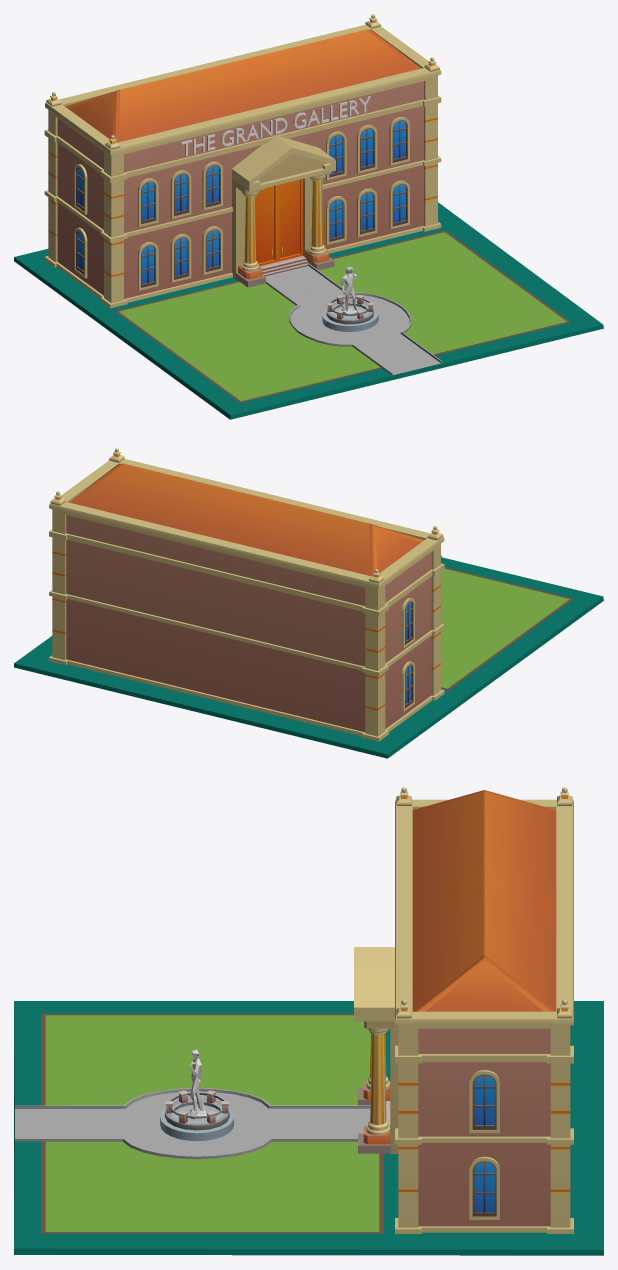
File: Museum.fbx
3 views of the same model, one above another, from view 1: azimuth 30°, elevation 25°; view 2: azimuth 150°, elevation 25°; view 3: azimuth 270°, elevation 25° (orthographic). The views are drawn at different scales.
Visible parts, largest first — view 1: Museum; view 2: Museum; view 3: Museum.
Part boxes in pixels (x1=…): Museum: x1=14, y1=14, x2=603, y2=419; Museum: x1=14, y1=448, x2=603, y2=758; Museum: x1=14, y1=787, x2=603, y2=1255.
Bounding box in the file's own units: 8 × 3.84 × 8.
